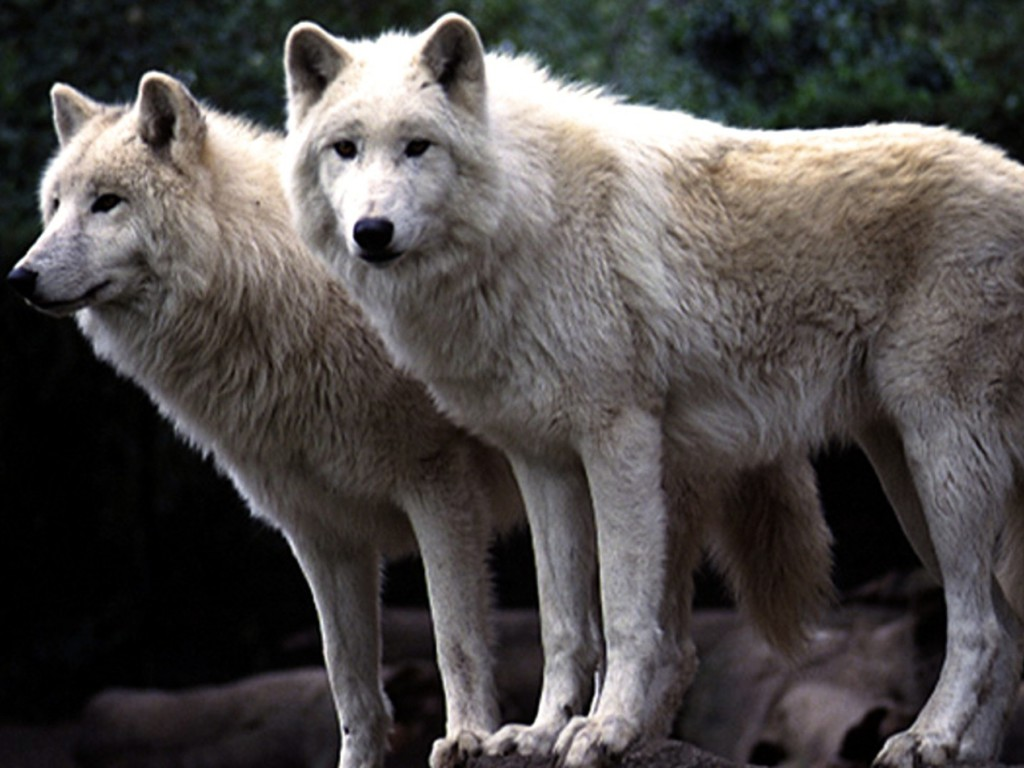wolf: (5, 61, 1024, 736), (279, 13, 1021, 768)
